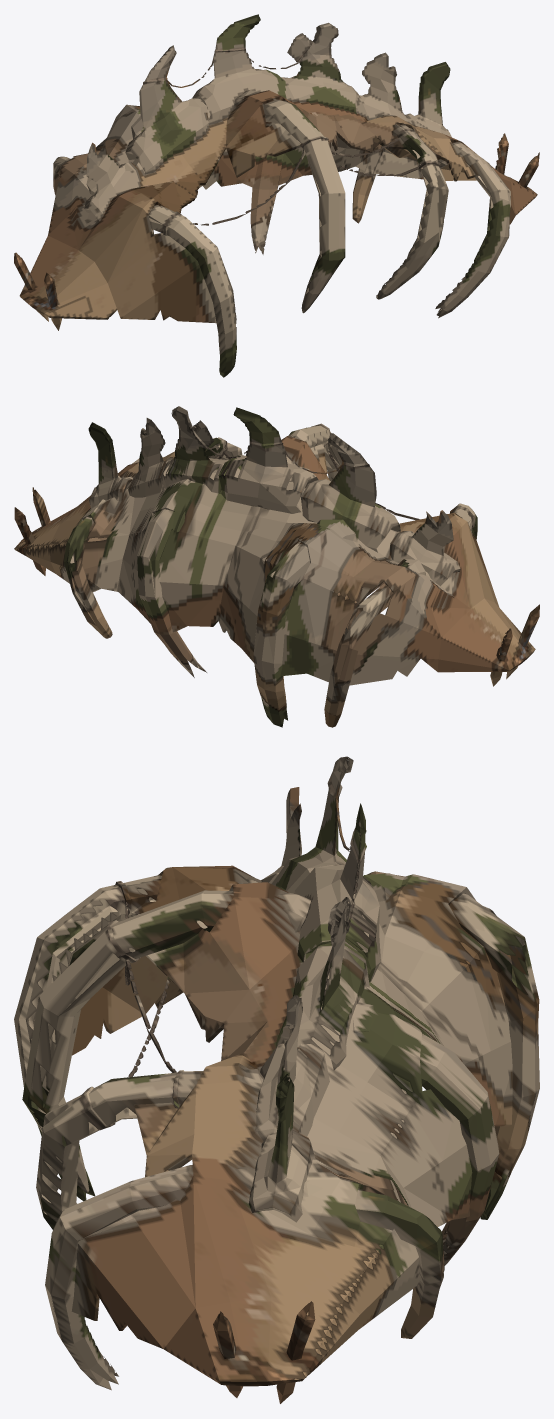
File: SM_Bld_Mess_Hall_01.fbx
3 renders of one model, top to bottom at view 1: azimuth 30°, elevation 25°; view 2: azimuth 150°, elevation 25°; view 3: azimuth 270°, elevation 25°, orthographic. The views are drawn at different scales.
Visible parts, largest first — view 1: SM_Bld_Mess_Hall_01; view 2: SM_Bld_Mess_Hall_01; view 3: SM_Bld_Mess_Hall_01.
Part boxes in pixels (<box>): SM_Bld_Mess_Hall_01: <box>14,14,539,377</box>; SM_Bld_Mess_Hall_01: <box>14,406,539,727</box>; SM_Bld_Mess_Hall_01: <box>14,756,539,1403</box>.
Size of the model in its own units: 442 by 235 by 233.
